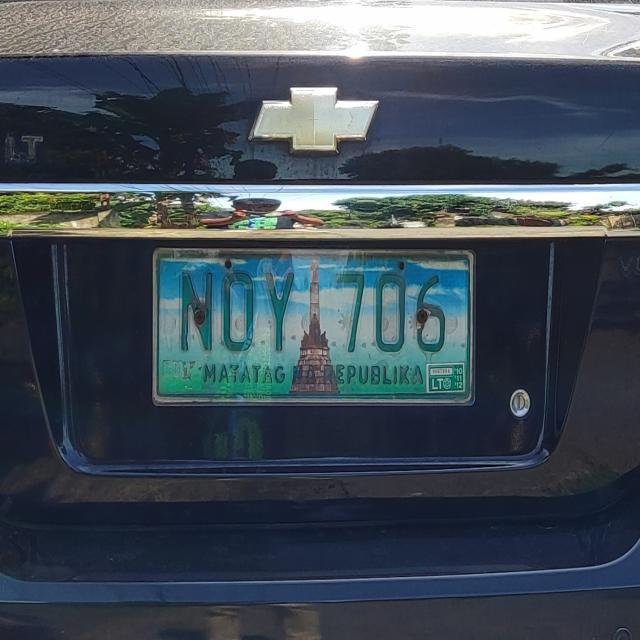LicensePlate: (145, 240, 484, 414)
